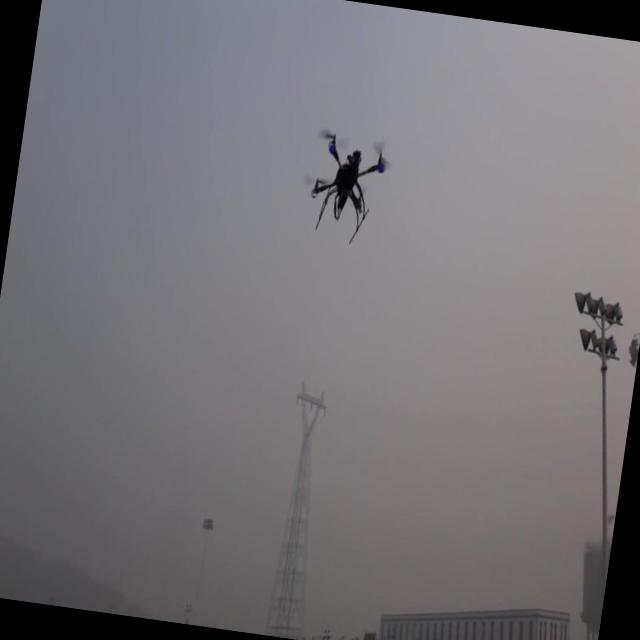drone: (303, 129, 390, 248)
